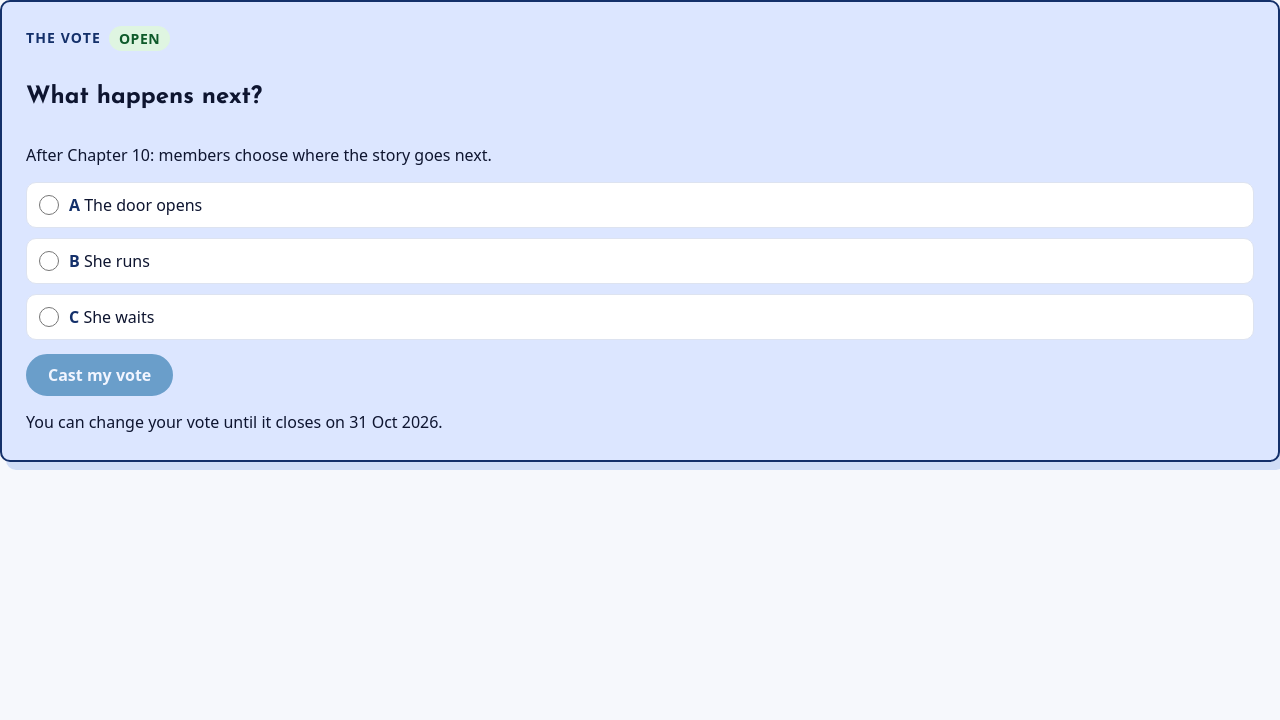
Test: a member › is told in plain words, and stays in the form, if the vote is refused
This screenshot has width=1280, height=720.
Click the radio button labelled "A The door opens": (49, 205) [39, 195, 59, 215]
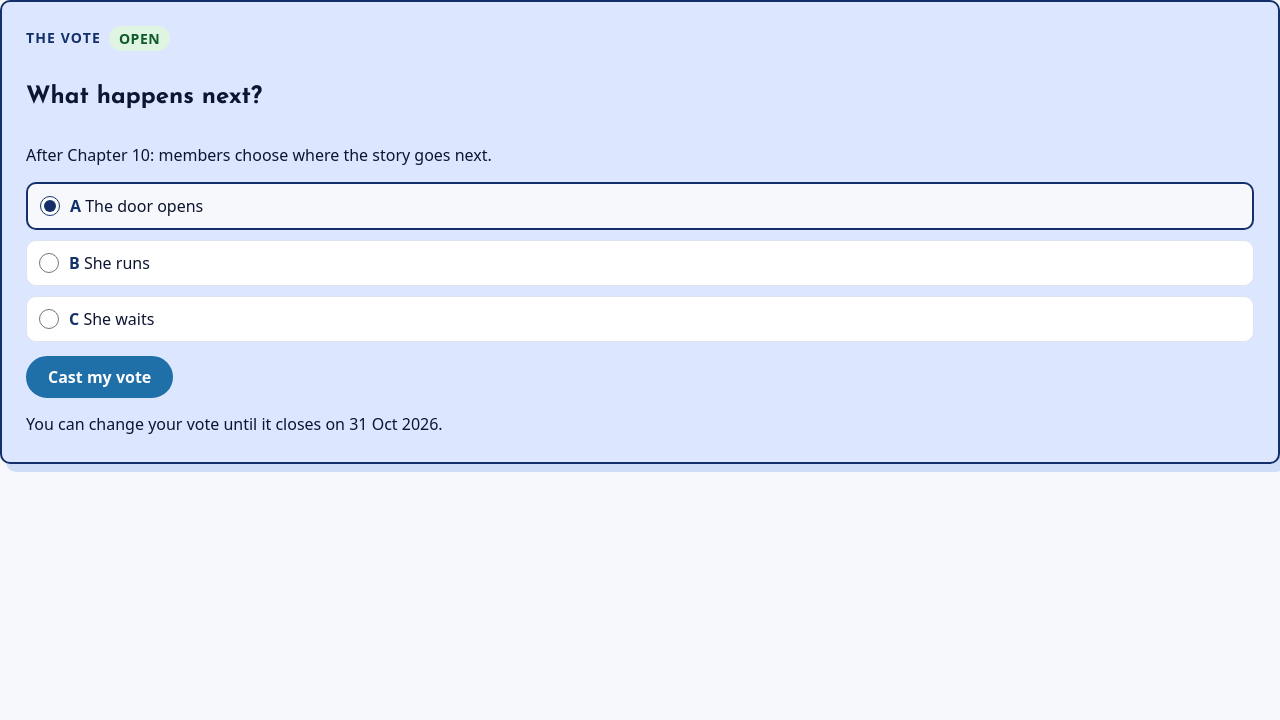
Click the button "Cast my vote": (100, 377) [26, 356, 173, 398]
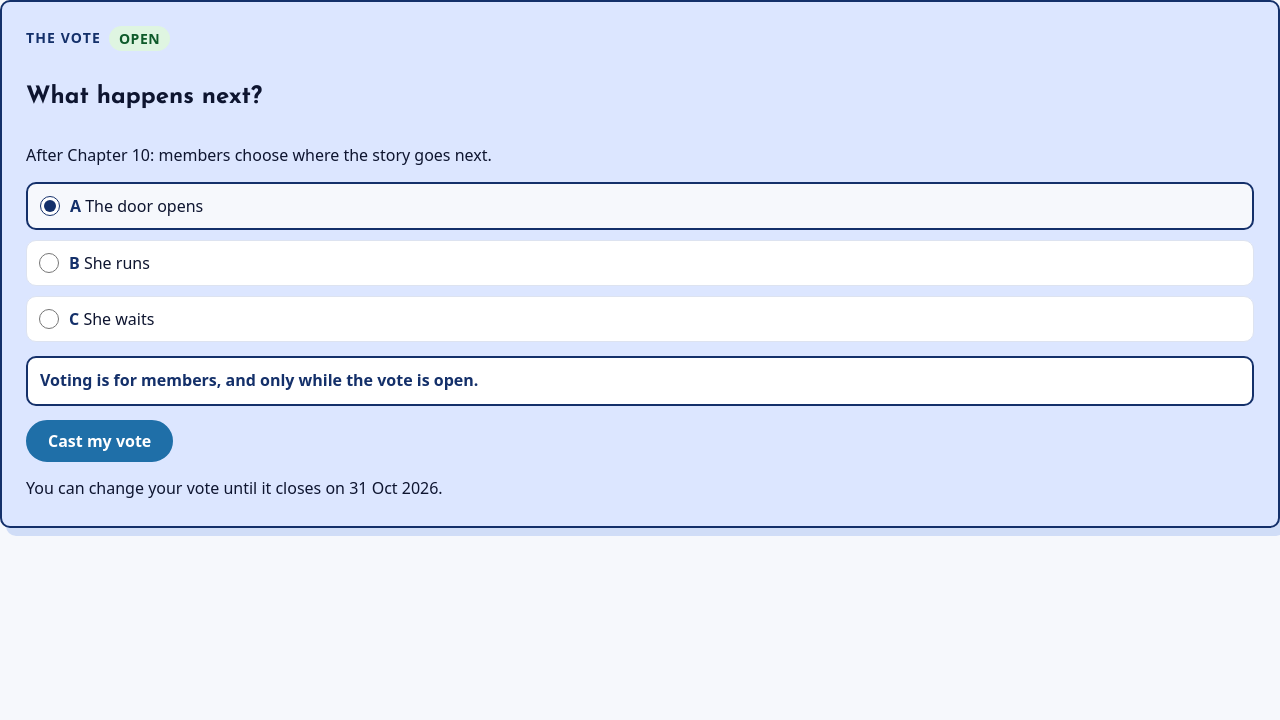
Expected: the number of radio buttons is 3, [40, 196, 60, 216]; [39, 253, 59, 273]; [39, 309, 59, 329]
Now the message reads "Voting is for members, and only while the vote is open.", box [40, 369, 478, 391]
